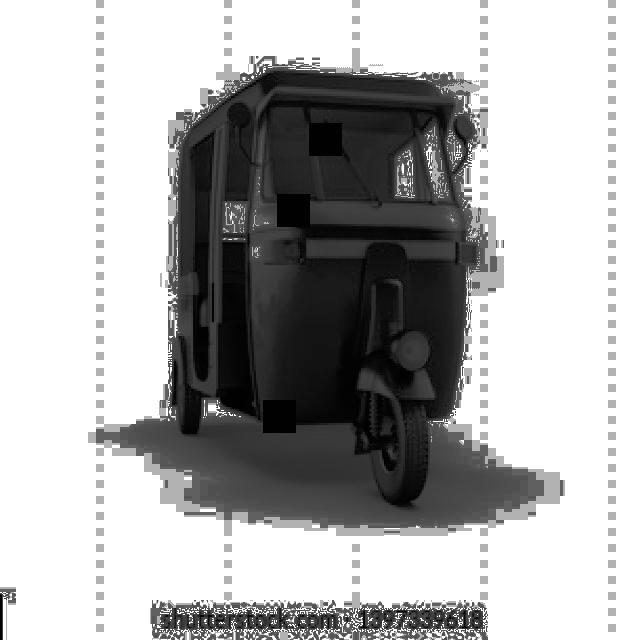Auto-Rickshaw: (107, 57, 567, 541)
